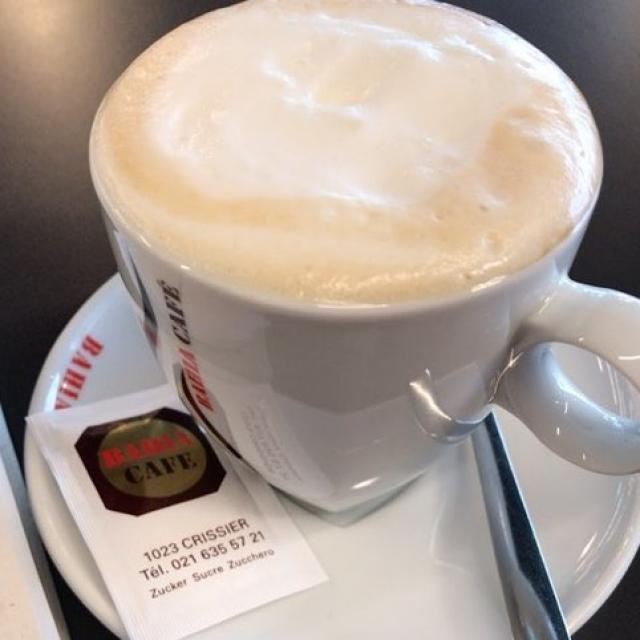cappuccino: (98, 9, 592, 299)
